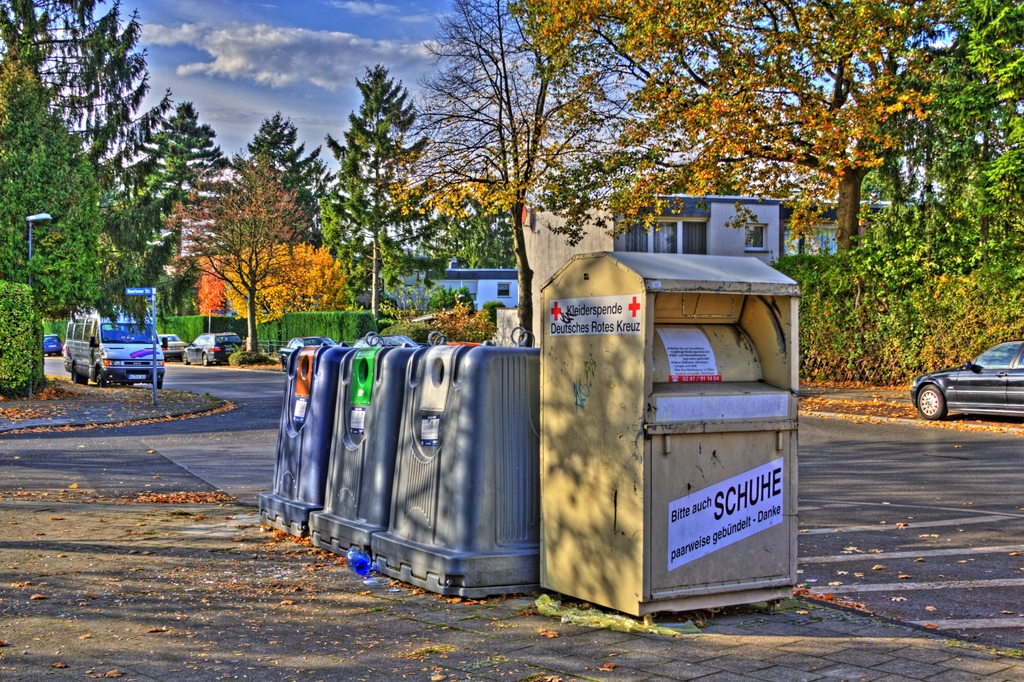Car: (58, 300, 165, 398), (908, 336, 1023, 422), (178, 330, 248, 370), (276, 337, 337, 372), (154, 332, 199, 361), (37, 332, 73, 360), (352, 334, 422, 347), (44, 333, 62, 357), (442, 340, 482, 346)
